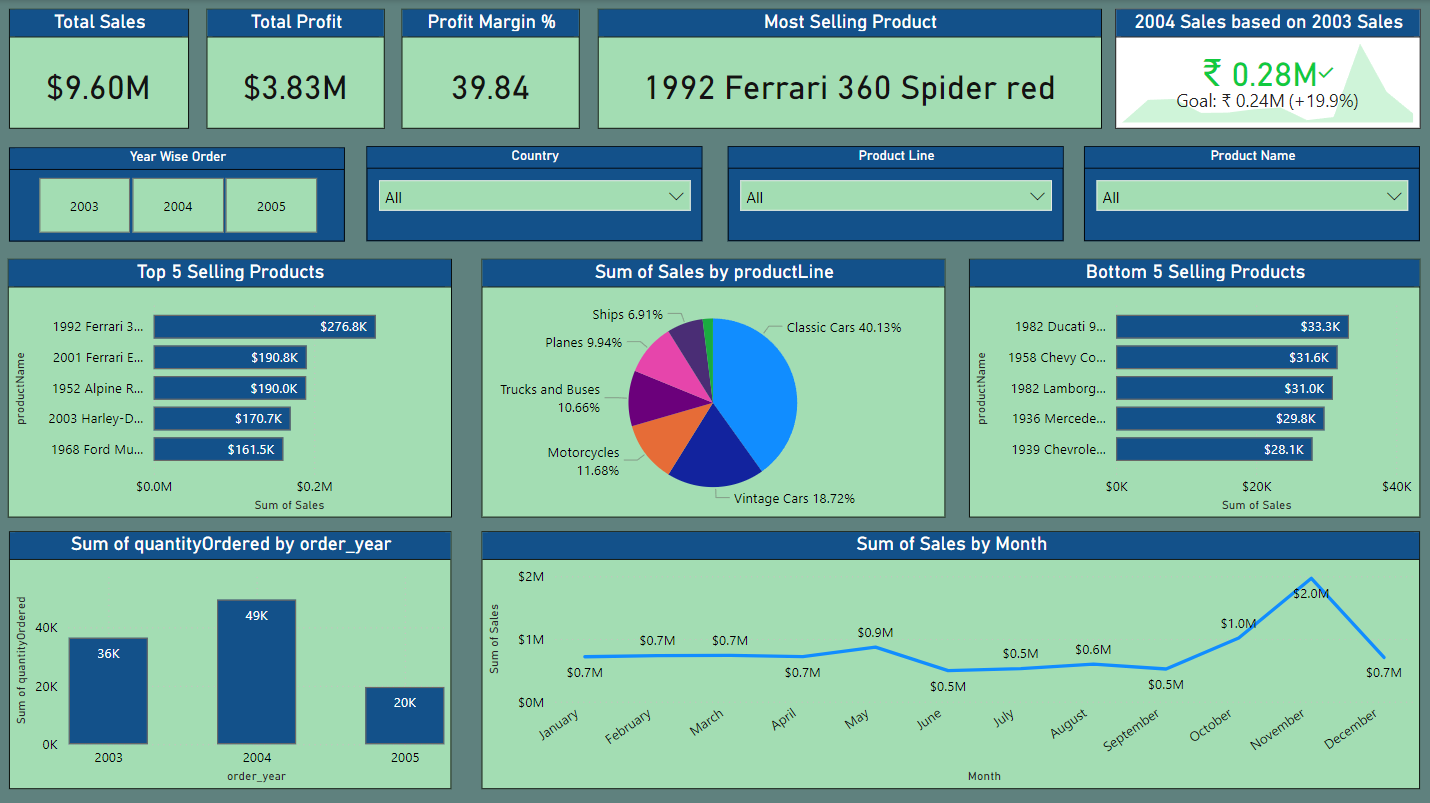

Layout of this report page (visuals, bound fields, positions):
{"tool":"powerbi","page":{"name":"Page 1","canvas":[1280,720],"ordinal":0},"visuals":[{"type":"cardVisual","title":"Total Sales","fields":{"Data":["Sum(order details.Sales)"]},"box":[9,7.9,160.6,107.4],"z":0},{"type":"cardVisual","title":"Most Selling Product","fields":{"Data":["order details.MostOrderedProduct"]},"box":[534.8,7.9,450,107.4],"z":1000},{"type":"barChart","title":"Top 5 Selling Products","fields":{"Category":["products.productName"],"Y":["Sum(order details.Sales)"]},"box":[7.8,231.1,396.4,231.1],"z":2000},{"type":"pieChart","fields":{"Category":["products.productLine"],"Y":["Sum(order details.Sales)"]},"box":[431,231.1,414.3,231.1],"z":3000},{"type":"slicer","title":"Year Wise Order","fields":{"Values":["orders.order_year"]},"box":[9.3,131.4,300,83.7],"z":4000},{"type":"slicer","title":"Country","fields":{"Values":["offices.country"]},"box":[327.9,130.2,300,84.9],"z":5000},{"type":"columnChart","fields":{"Category":["orders.order_year"],"Y":["Sum(order details.quantityOrdered)"]},"box":[8.9,474.6,395.3,230],"z":6000},{"type":"cardVisual","title":"Total Profit","fields":{"Data":["order details.total_profit"]},"box":[185.4,7.9,159.4,107.4],"z":7000},{"type":"kpi","title":"2004 Sales based on 2003 Sales","fields":{"Goal":["orders.sales_2003"],"TrendLine":["orders.Month Name"],"Indicator":["orders.sales_2004"]},"box":[997.2,7.8,272.5,107.2],"z":8000},{"type":"cardVisual","title":"Profit Margin %","fields":{"Data":["order details.profit_margin_%"]},"box":[359.5,7.9,159.4,107.4],"z":9000},{"type":"slicer","title":"Product Line","fields":{"Values":["productlines.productLine"]},"box":[651.2,130.2,300,84.9],"z":10000},{"type":"slicer","title":"Product Name","fields":{"Values":["products.productName"]},"box":[969.2,130.6,300.4,84.9],"z":11000},{"type":"lineChart","fields":{"Y":["Sum(order details.Sales)"],"Category":["orders.orderDate.Variation.Date Hierarchy.Year","orders.orderDate.Variation.Date Hierarchy.Quarter","orders.orderDate.Variation.Date Hierarchy.Month","orders.orderDate.Variation.Date Hierarchy.Day"]},"box":[431,474.6,838.6,230],"z":12000},{"type":"barChart","title":"Bottom 5 Selling Products","fields":{"Category":["products.productName"],"Y":["Sum(order details.Sales)"]},"box":[866.5,231.1,403.1,231.1],"z":13000}]}

Visuals, with their boxes in screenshot pixels (x1, y1, x2, y2), scaled from the page's 1280x720 canvas onto the 1430x803 screenshot:
"Total Sales" cardVisual: (x1=10, y1=9, x2=189, y2=129)
"Most Selling Product" cardVisual: (x1=597, y1=9, x2=1100, y2=129)
"Top 5 Selling Products" barChart: (x1=9, y1=258, x2=452, y2=515)
pieChart - products.productLine x Sum(order details.Sales): (x1=482, y1=258, x2=944, y2=515)
"Year Wise Order" slicer: (x1=10, y1=147, x2=346, y2=240)
"Country" slicer: (x1=366, y1=145, x2=701, y2=240)
columnChart - orders.order_year x Sum(order details.quantityOrdered): (x1=10, y1=529, x2=452, y2=786)
"Total Profit" cardVisual: (x1=207, y1=9, x2=385, y2=129)
"2004 Sales based on 2003 Sales" kpi: (x1=1114, y1=9, x2=1418, y2=128)
"Profit Margin %" cardVisual: (x1=402, y1=9, x2=580, y2=129)
"Product Line" slicer: (x1=728, y1=145, x2=1063, y2=240)
"Product Name" slicer: (x1=1083, y1=146, x2=1418, y2=240)
lineChart - Sum(order details.Sales) x orders.orderDate.Variation.Date Hierarchy.Year: (x1=482, y1=529, x2=1418, y2=786)
"Bottom 5 Selling Products" barChart: (x1=968, y1=258, x2=1418, y2=515)
